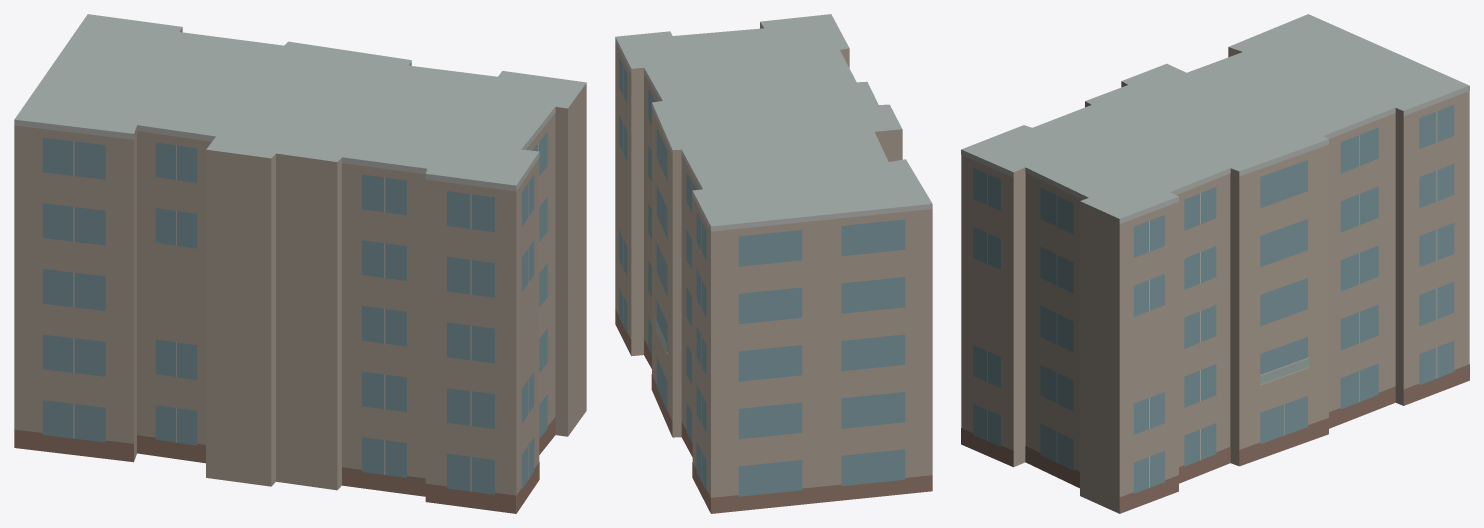
The model's file is survey-upis-32957271.glb.
The picture shows the model from 3 angles, left to right: view 1: azimuth 30°, elevation 25°; view 2: azimuth 150°, elevation 25°; view 3: azimuth 270°, elevation 25°; orthographic projection. The views are drawn at different scales.
Visible parts, largest first — view 1: survey-upis-32957271.tmp; view 2: survey-upis-32957271.tmp; view 3: survey-upis-32957271.tmp.
Boxes of the visible parts, box(x1,y1,x2,y2) form: survey-upis-32957271.tmp: box(14, 14, 586, 513); survey-upis-32957271.tmp: box(615, 14, 932, 513); survey-upis-32957271.tmp: box(961, 14, 1469, 513).
Bounding box in the file's own units: 20.28 × 13.6 × 21.26.
